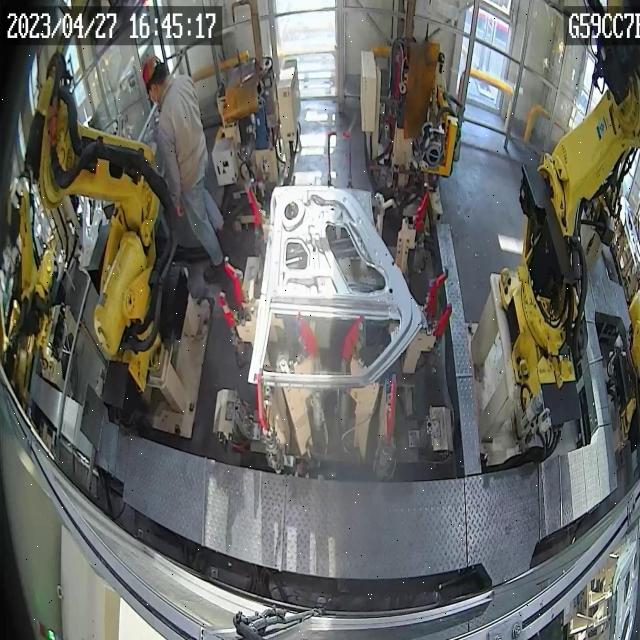Person: (142, 56, 226, 276)
